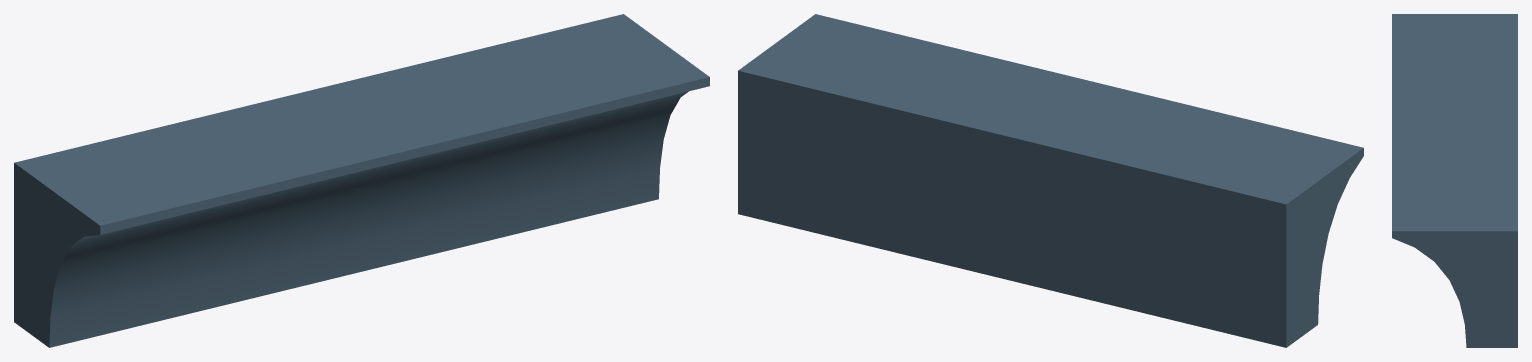
Rendered from W1_Wall_2m_TopCurved.fbx.
The picture shows the model from 3 angles, left to right: view 1: azimuth 30°, elevation 25°; view 2: azimuth 150°, elevation 25°; view 3: azimuth 270°, elevation 25°; orthographic projection. The views are drawn at different scales.
Parts seen in each view (by area): view 1: W1_Wall_2m_TopCurved.001; view 2: W1_Wall_2m_TopCurved.001; view 3: W1_Wall_2m_TopCurved.001.
Boxes of the visible parts, x1,y1,x2,y2 form: W1_Wall_2m_TopCurved.001: (14,14,709,347); W1_Wall_2m_TopCurved.001: (738,14,1363,347); W1_Wall_2m_TopCurved.001: (1392,14,1517,347).
Size of the model in its own units: 2 by 0.5 by 0.4894.
